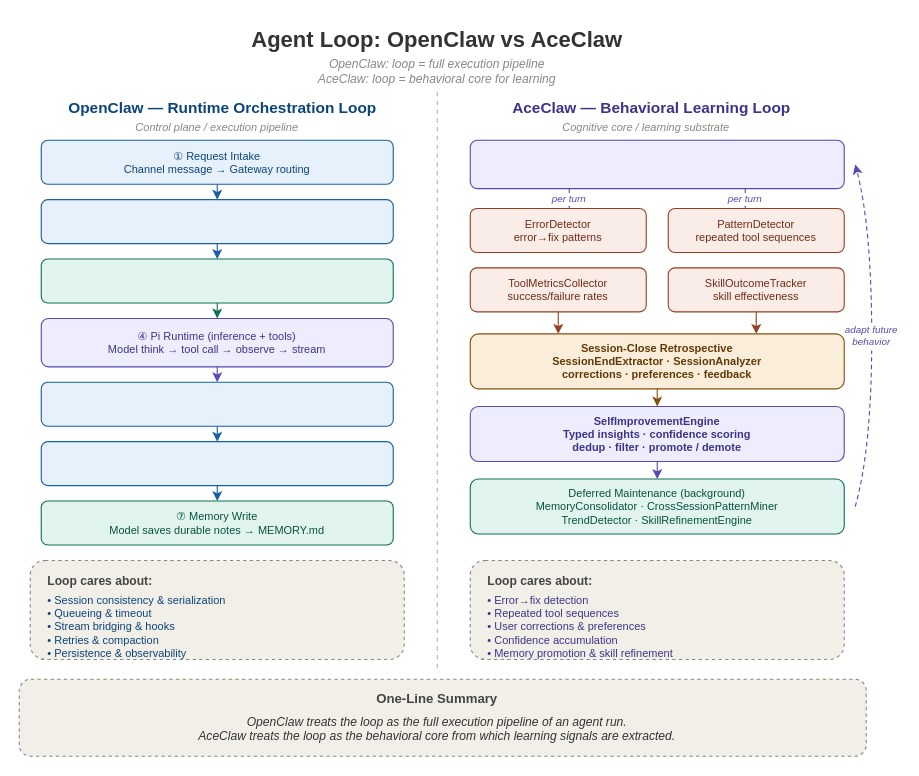
Some shapes in this 919 by 776 pixel diagram are drawn without their labels. The shapes that lost their labels are listed below. From the top down, each one's centre as x and y in pixels, then its label:
At (x=656, y=164): "ReAct Loop (StreamingAgentLoop) reason → act → observe → reason".
At (x=216, y=221): "② Session Resolve Serialized, one run per session, queue".
At (x=216, y=280): "③ Context Assembly Bootstrap files → system prompt → memory".
At (x=216, y=403): "⑤ Streaming + Hooks + Events Bridge tool/assistant/lifecycle events".
At (x=216, y=463): "⑥ Persistence + Retries JSONL transcript · timeout · compaction".
